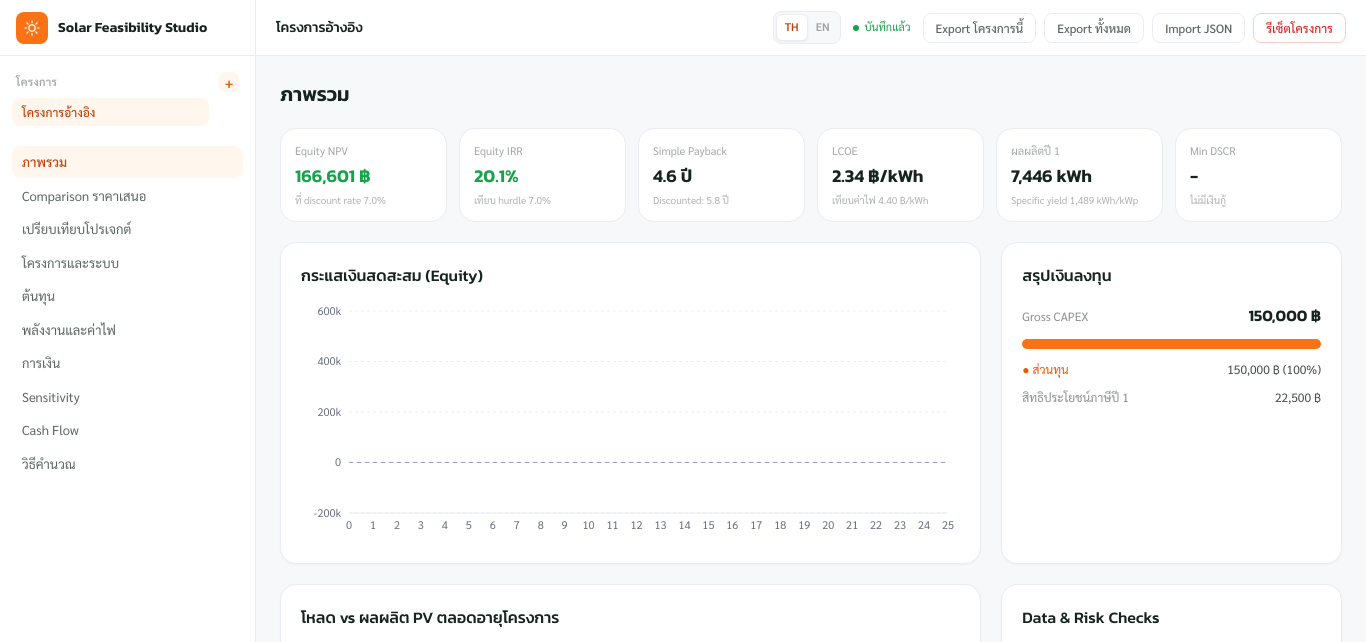
cashflow page (Phase 5) › renders the full year-by-year table with payback highlighting
The width and height of the screenshot is (1366, 642).
Click the link "Cash Flow".
click(50, 430)  # box [22,421,79,438]
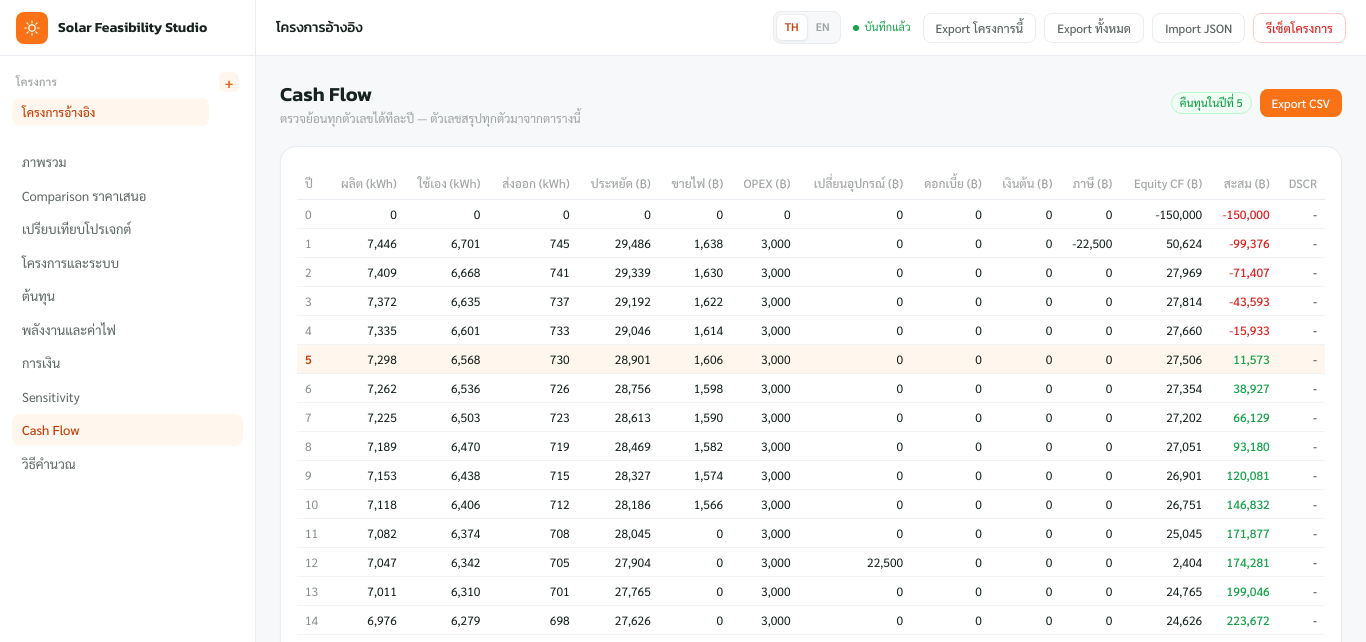
Check: the text "คืนทุนในปีที่ 5" is shown, box [1171,92,1252,114]
Check: the 2nd cell "-150,000" is shown, box [1210,200,1278,228]
Check: the button "Export CSV" is shown, box [1260,89,1342,117]
